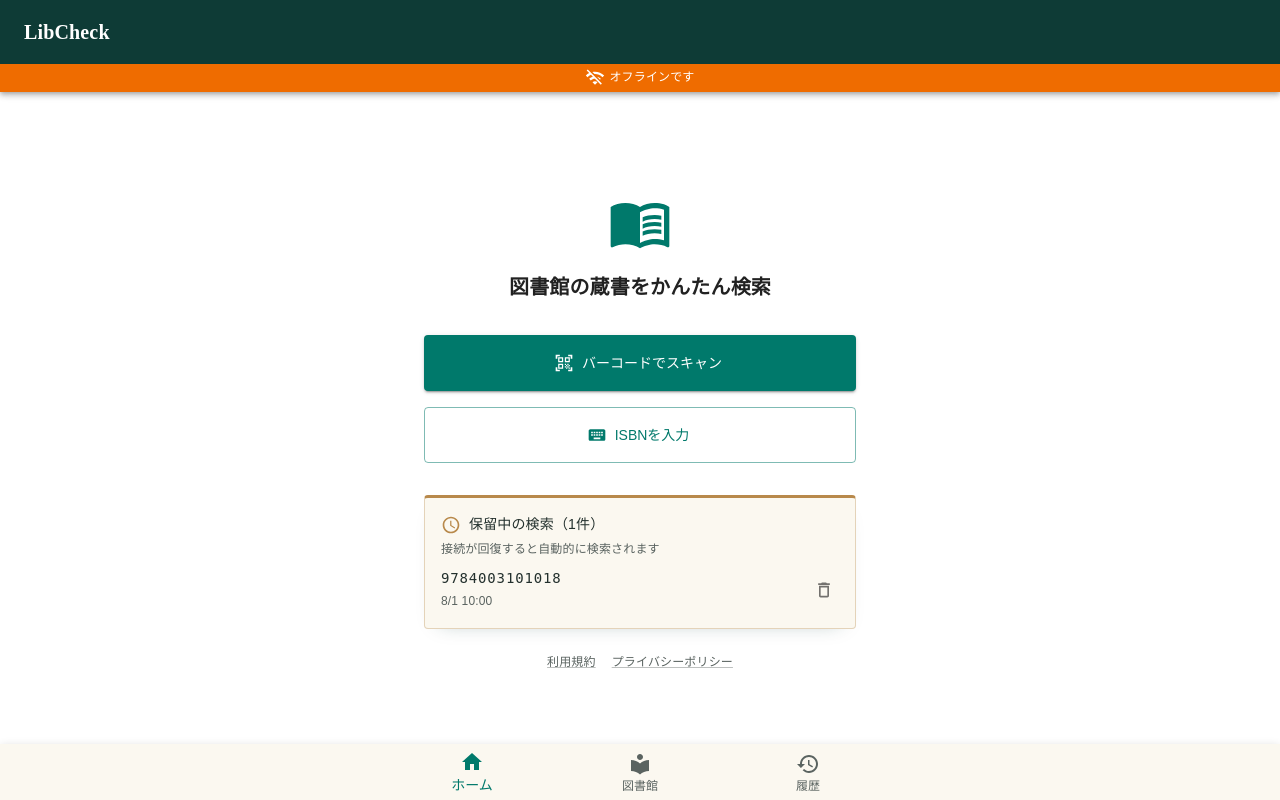
Scenario: HomePage 保留中の検索（#144） › 削除ボタンで保留項目を削除できる
Click the button named "保留中の9784003101018を削除" at x=824, y=590, box [809, 575, 839, 605]
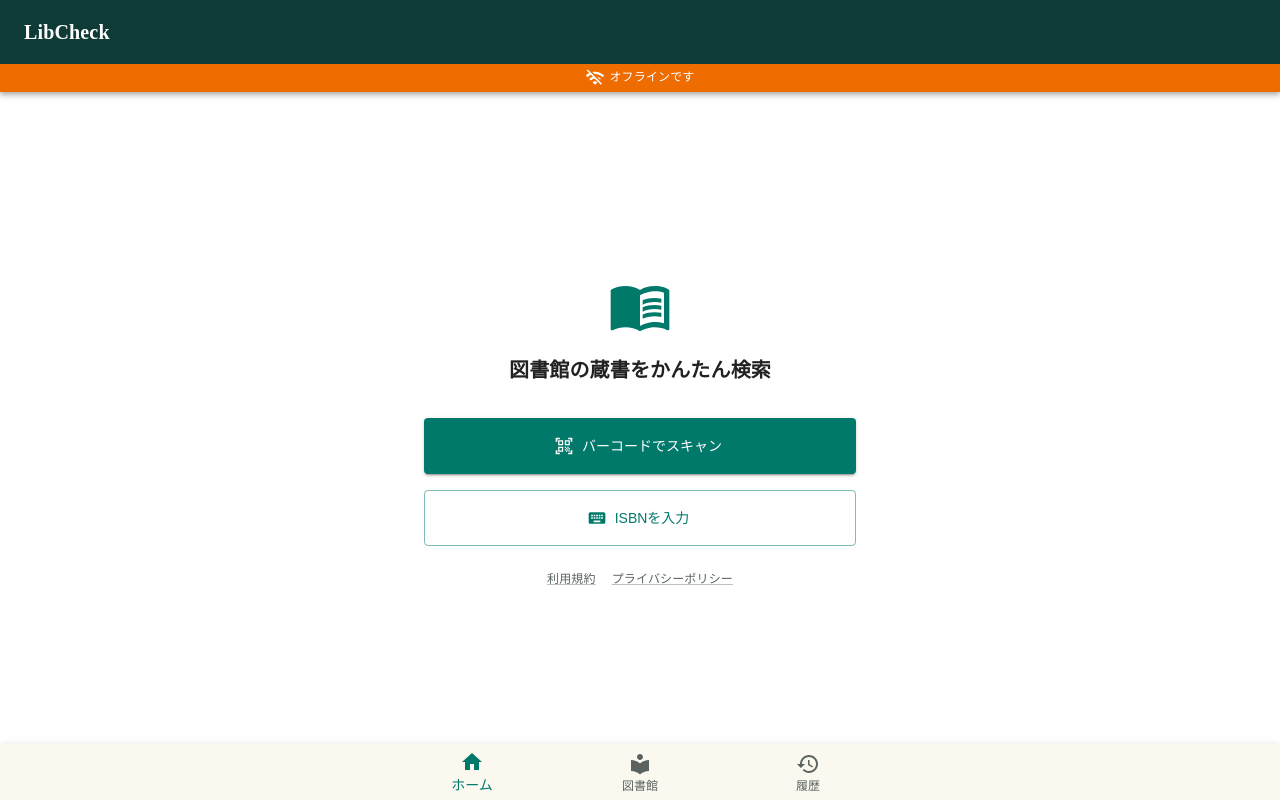
Expected: the heading "保留中の検索" is gone
